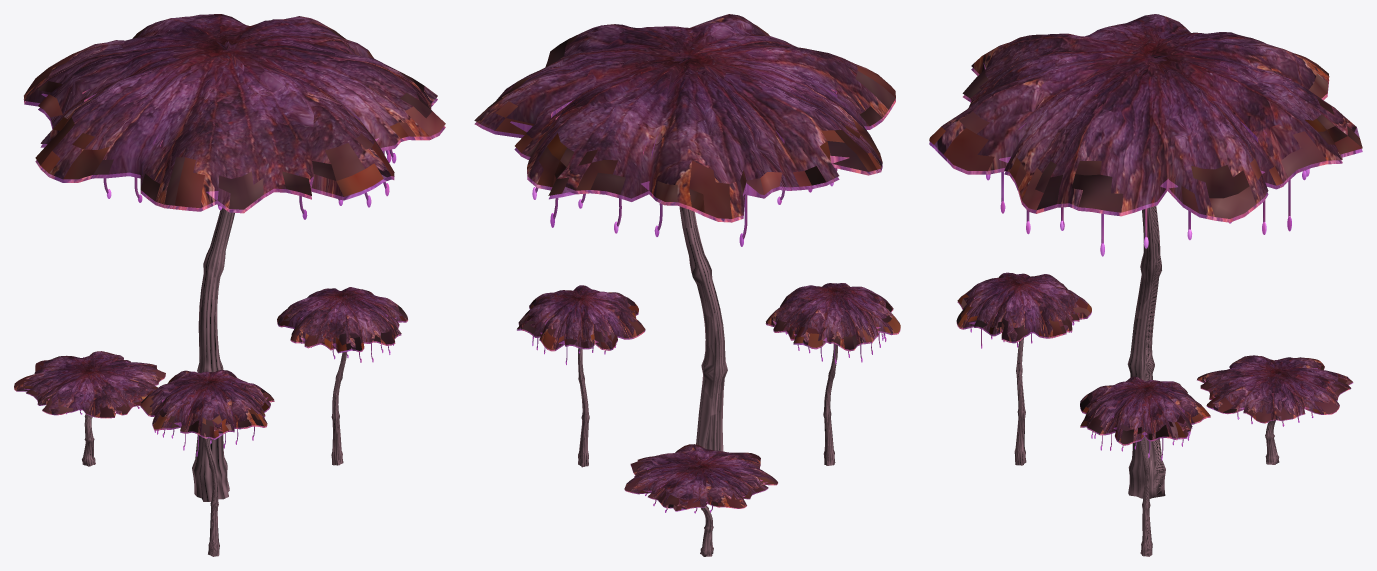
File: parasol_00.glb
The picture shows the model from 3 angles, left to right: view 1: azimuth 30°, elevation 25°; view 2: azimuth 150°, elevation 25°; view 3: azimuth 270°, elevation 25°; orthographic projection. The views are drawn at different scales.
Parts seen in each view (by area): view 1: export; view 2: export; view 3: export.
Part boxes in pixels (bbox=[...]): export: bbox=[14, 14, 445, 556]; export: bbox=[474, 14, 900, 556]; export: bbox=[929, 14, 1362, 556].
Bounding box in the file's own units: 2.64 × 3.07 × 2.69.
5 materials, 5 textured.
